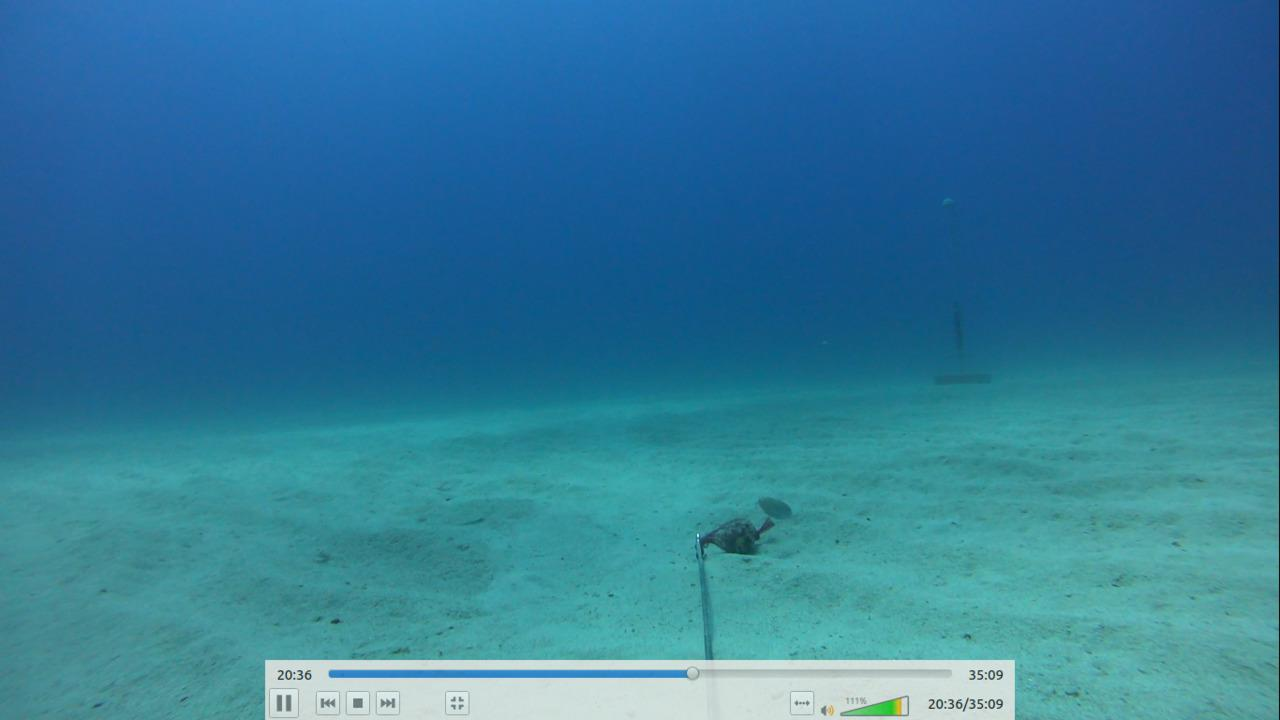raor: (752, 488, 797, 525)
